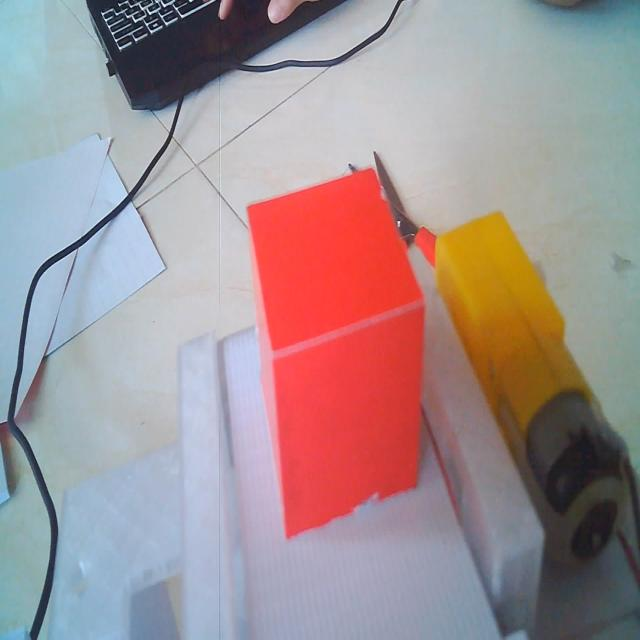red: (242, 165, 428, 544)
